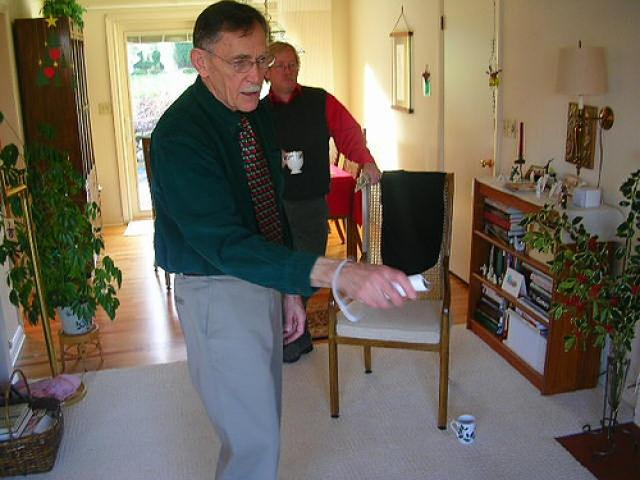Kursi: (324, 167, 453, 428)
Rak: (465, 174, 562, 396)
